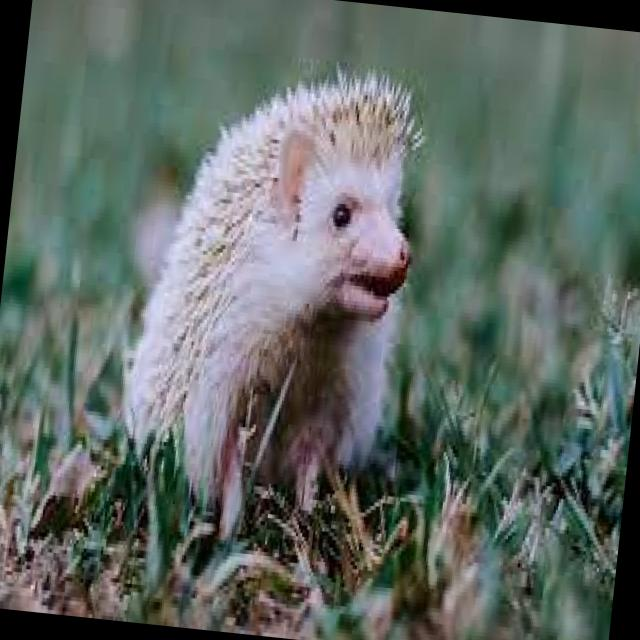Hedgehog: (104, 42, 431, 556)
